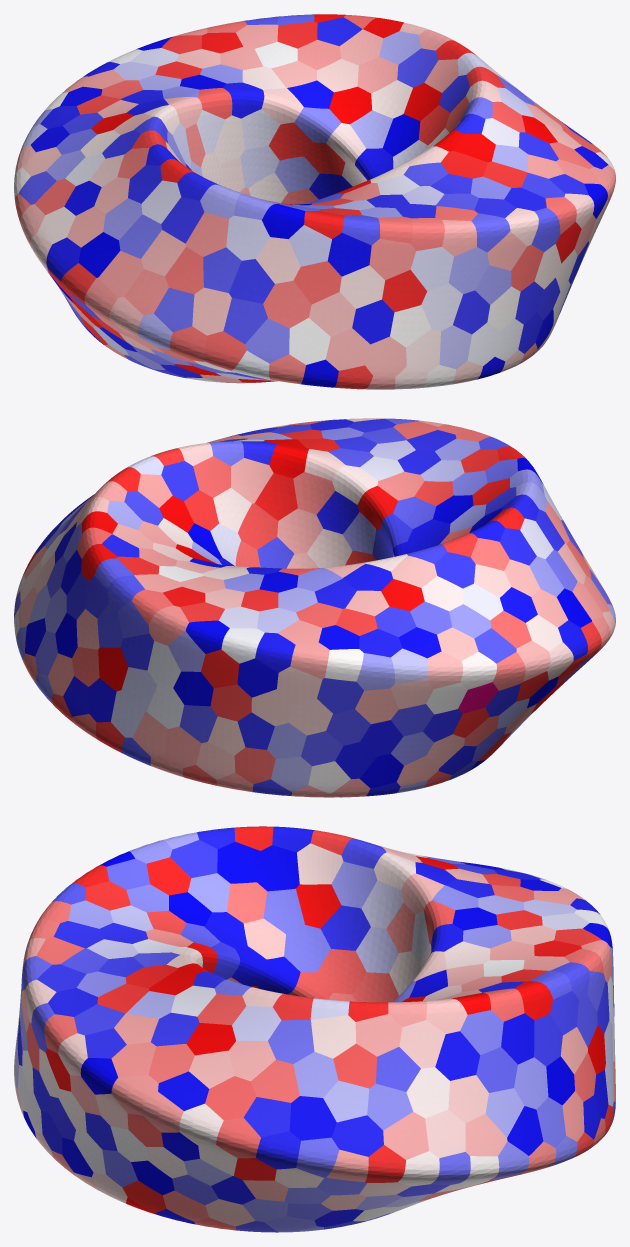
Rendered from Ours_600_mobius1_Iter13_RVD.obj.
3 renders of one model, top to bottom at view 1: azimuth 30°, elevation 25°; view 2: azimuth 150°, elevation 25°; view 3: azimuth 270°, elevation 25°, orthographic. The views are drawn at different scales.
Visible parts, largest first — view 1: 3D_Object; view 2: 3D_Object; view 3: 3D_Object.
Boxes of the visible parts, left/top/right/bottom form: 3D_Object: left=14, top=14, right=615, bottom=389; 3D_Object: left=14, top=418, right=615, bottom=797; 3D_Object: left=14, top=826, right=615, bottom=1232.
Bounding box in the file's own units: 6.8 × 2.63 × 6.26.
Materials: 1 (1 with a texture image).
